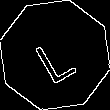L_NW: (29, 26, 81, 84)
